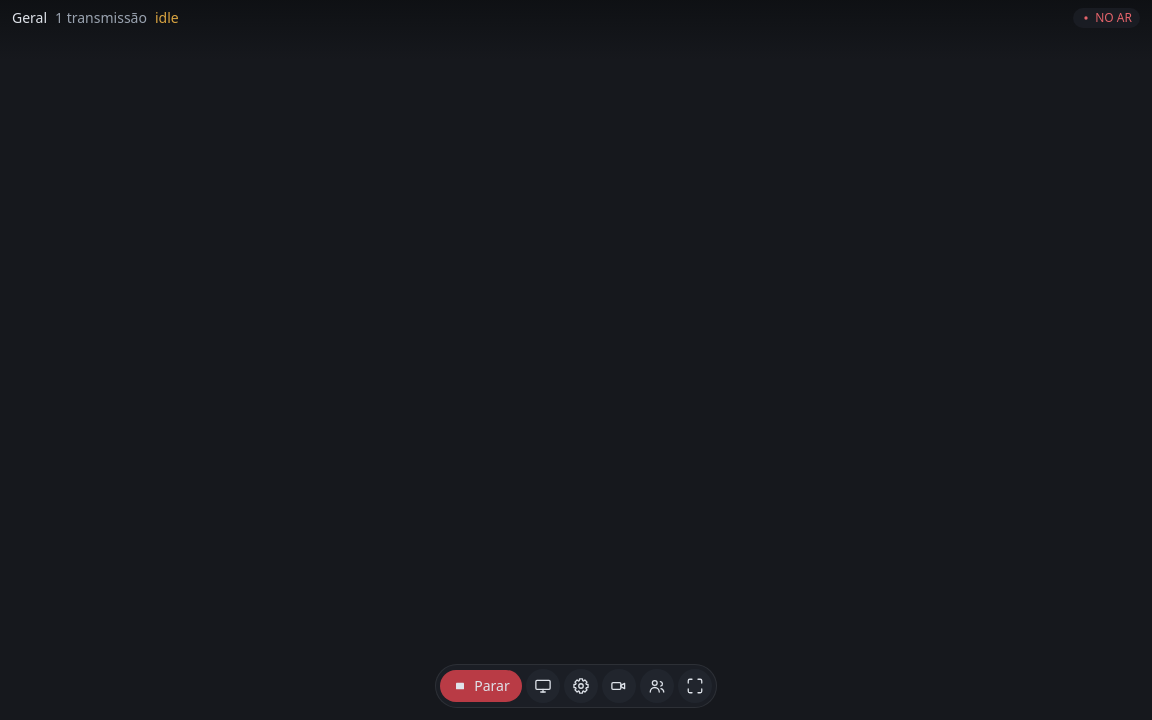
quem está na sala (issue #10) › diz quem está vendo a sua tela, e conta uma pessoa uma vez só
Click the button named "Quem está aqui". click: point(657, 686)
box: [640, 669, 674, 703]
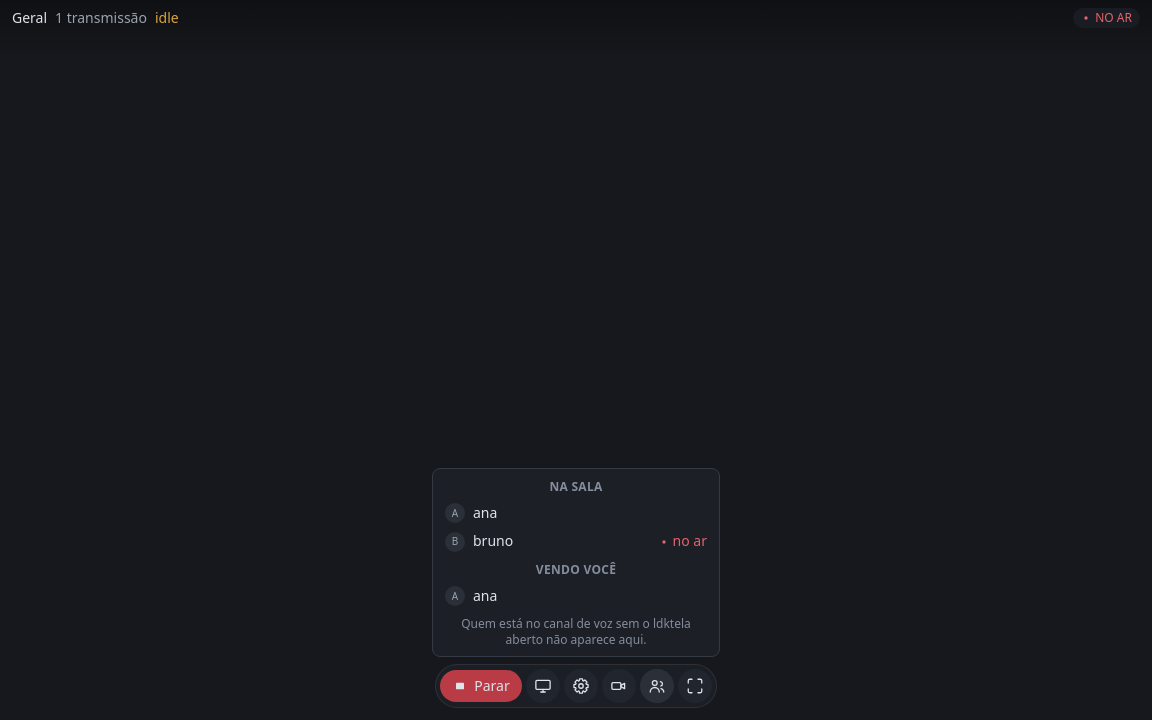
Now the 2nd text "ana" is shown, box [473, 586, 497, 606]
